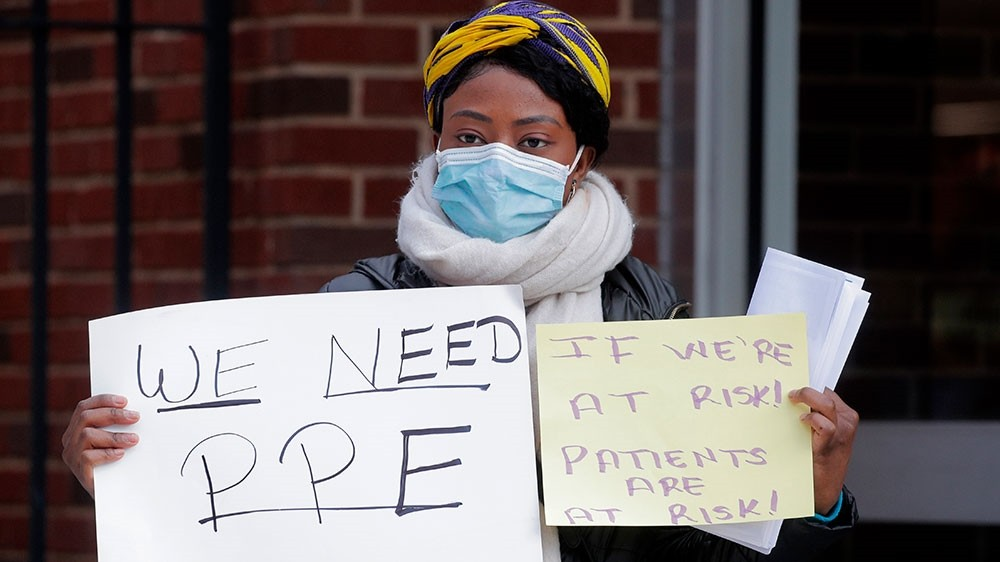with_mask: (436, 109, 570, 242)
